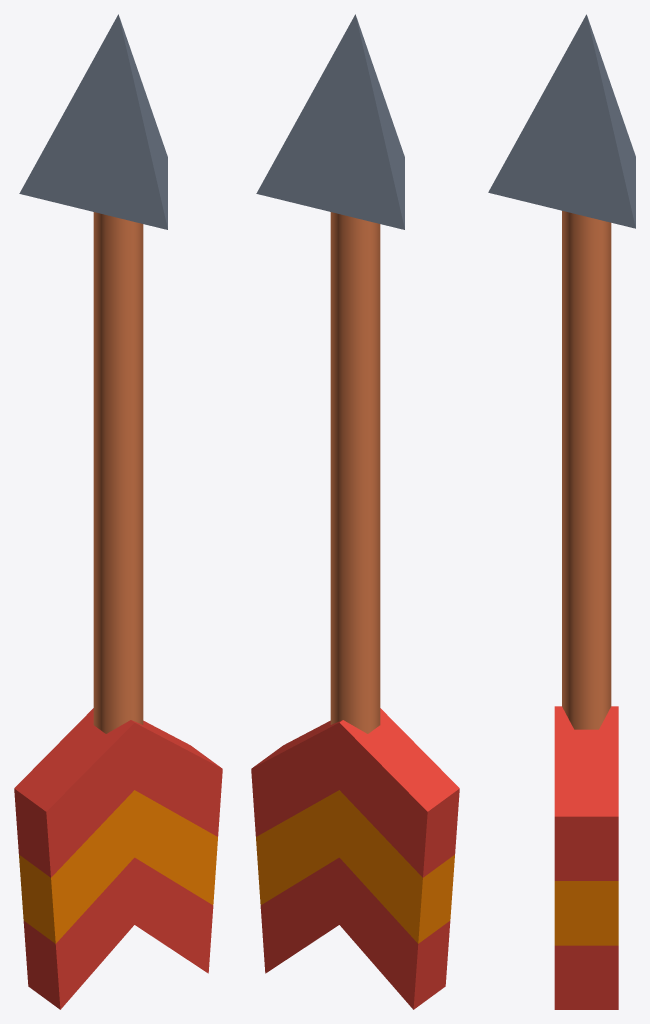
Rendered from Arrow Silver.fbx.
3 views of the same model, side by side, from view 1: azimuth 30°, elevation 25°; view 2: azimuth 150°, elevation 25°; view 3: azimuth 270°, elevation 25° (orthographic).
Parts seen in each view (by area): view 1: Arrow; view 2: Arrow; view 3: Arrow.
Part boxes in pixels (bbox=[...]): Arrow: bbox=[14, 14, 222, 1009]; Arrow: bbox=[251, 14, 459, 1009]; Arrow: bbox=[488, 14, 635, 1009].
Size of the model in its own units: 0.217 by 1.13 by 0.1584.
